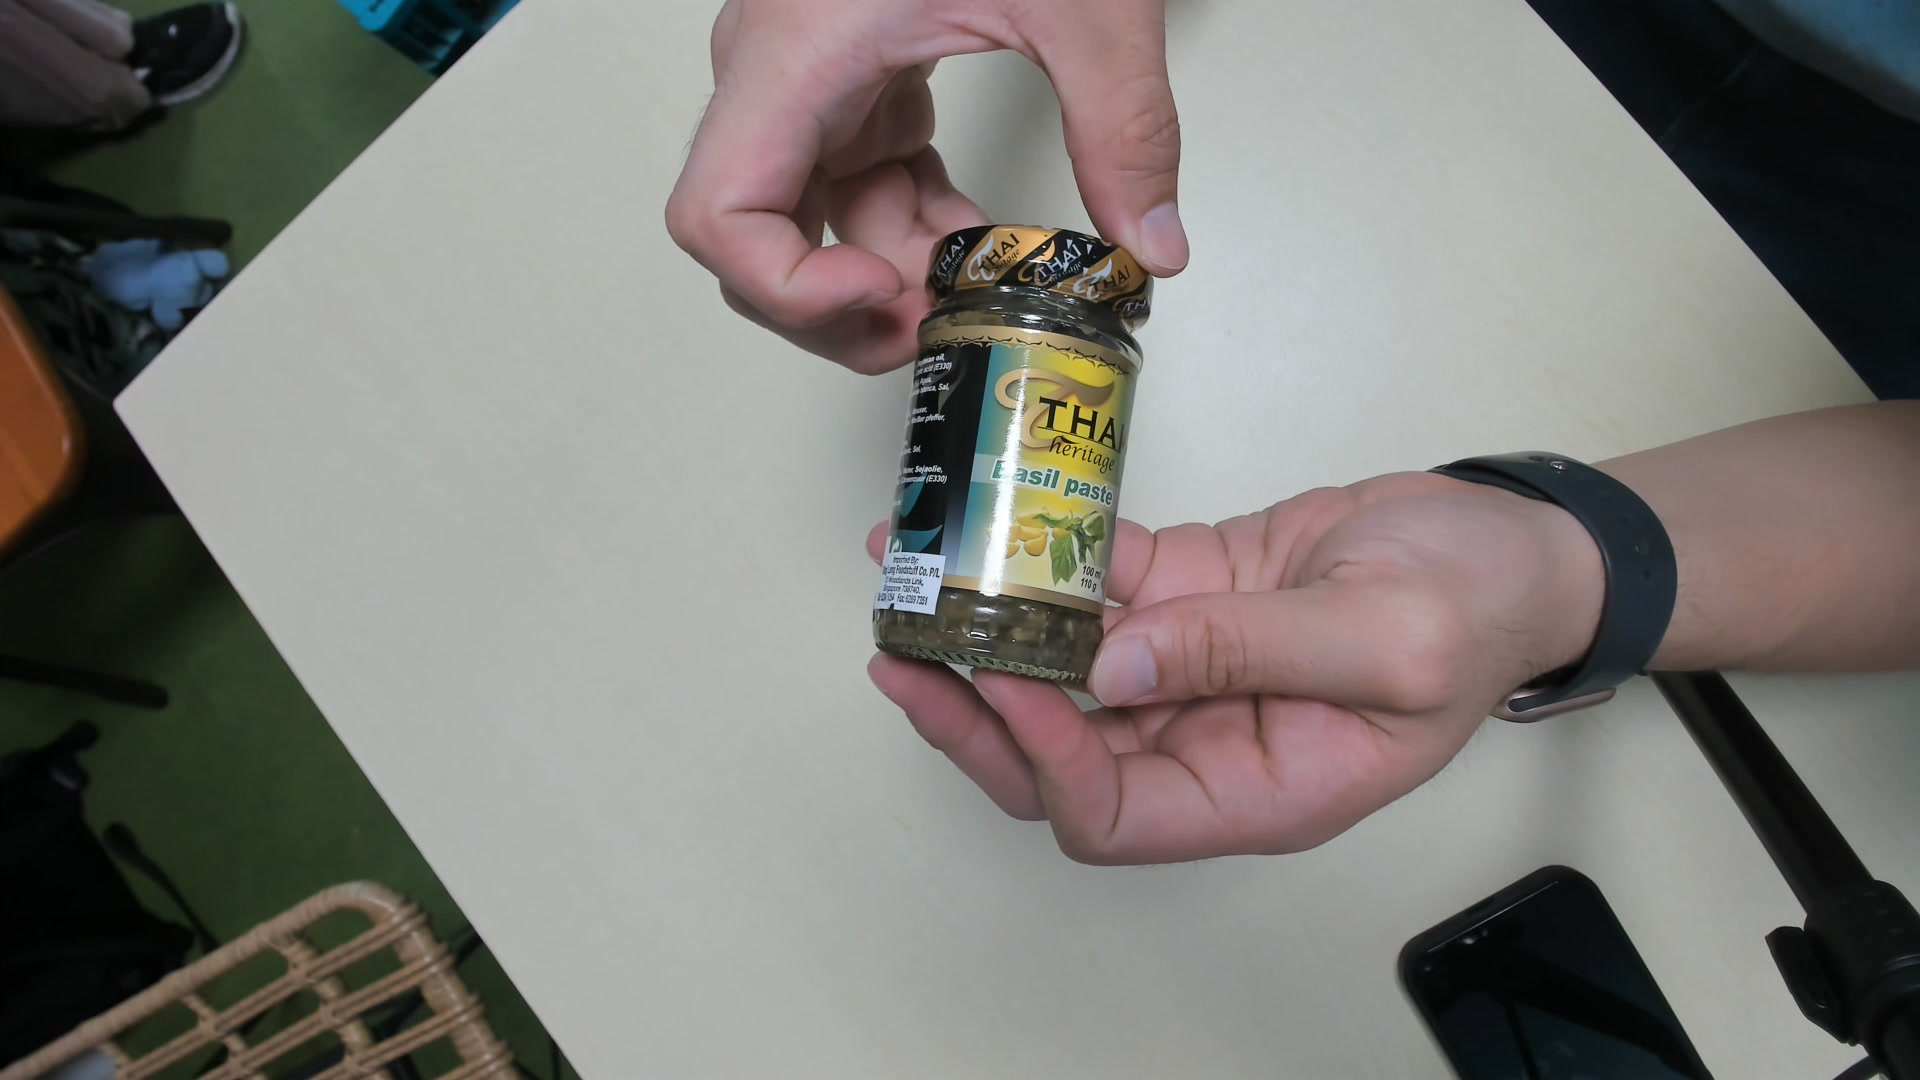OtherSauceDressing_0-99g_Halal_NonHealthy: (866, 225, 1153, 683)
